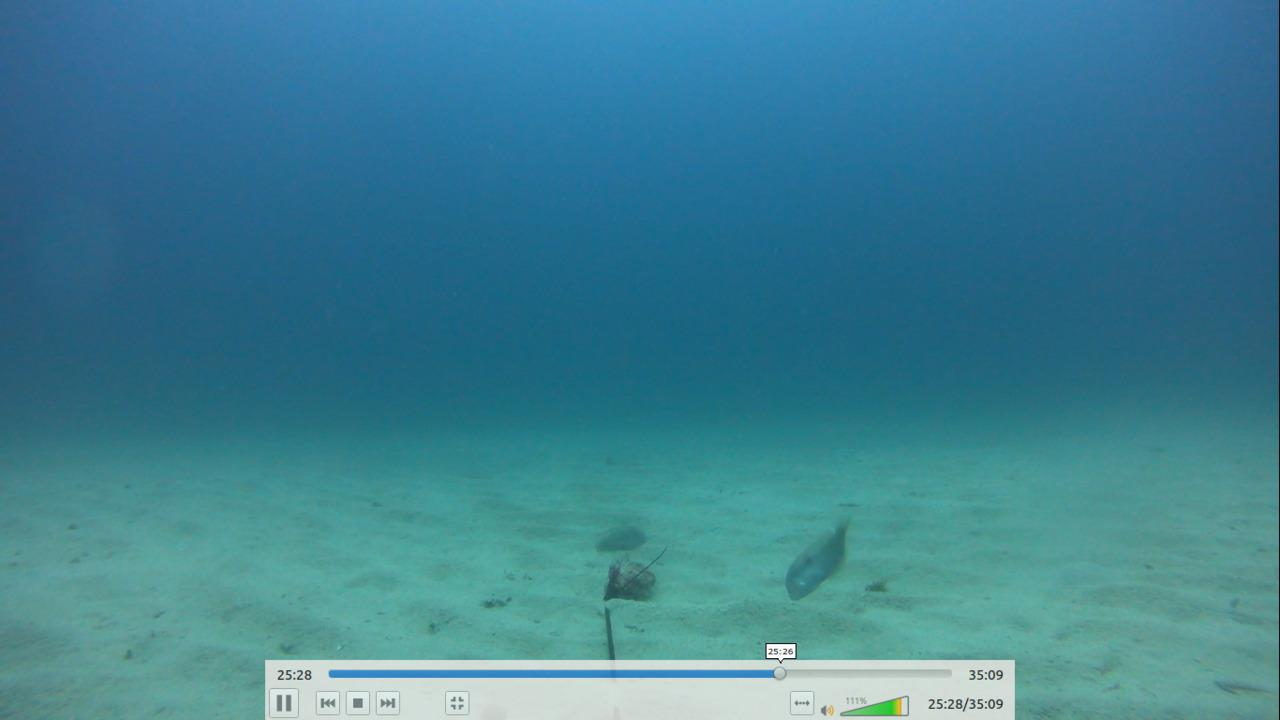raor: (780, 516, 855, 605), (590, 516, 652, 555)
